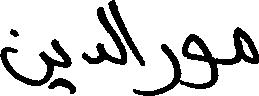X: (0, 24, 52, 93), (84, 0, 122, 69), (182, 29, 215, 93), (146, 39, 180, 95), (124, 19, 144, 95), (234, 22, 258, 68), (54, 34, 70, 95)
